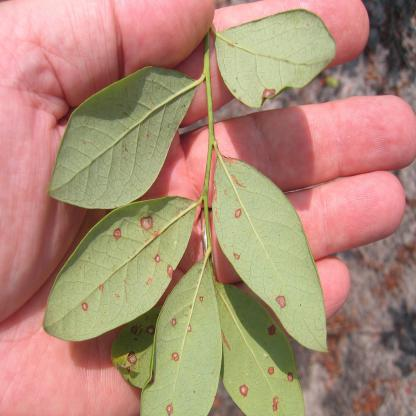blueberry leaf: (38, 61, 208, 230), (211, 139, 334, 365), (30, 198, 210, 349), (193, 278, 312, 416), (139, 250, 230, 416), (211, 15, 347, 112)
